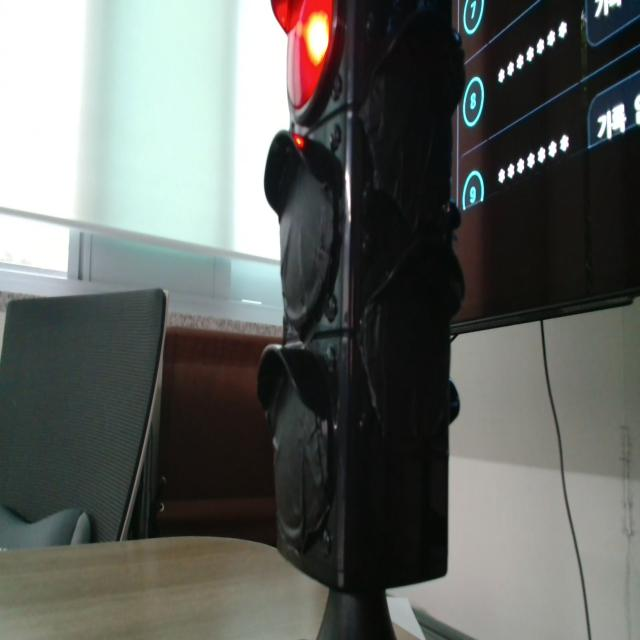red_light: (288, 0, 333, 109), (303, 12, 330, 66), (272, 0, 304, 33), (293, 135, 304, 149)
